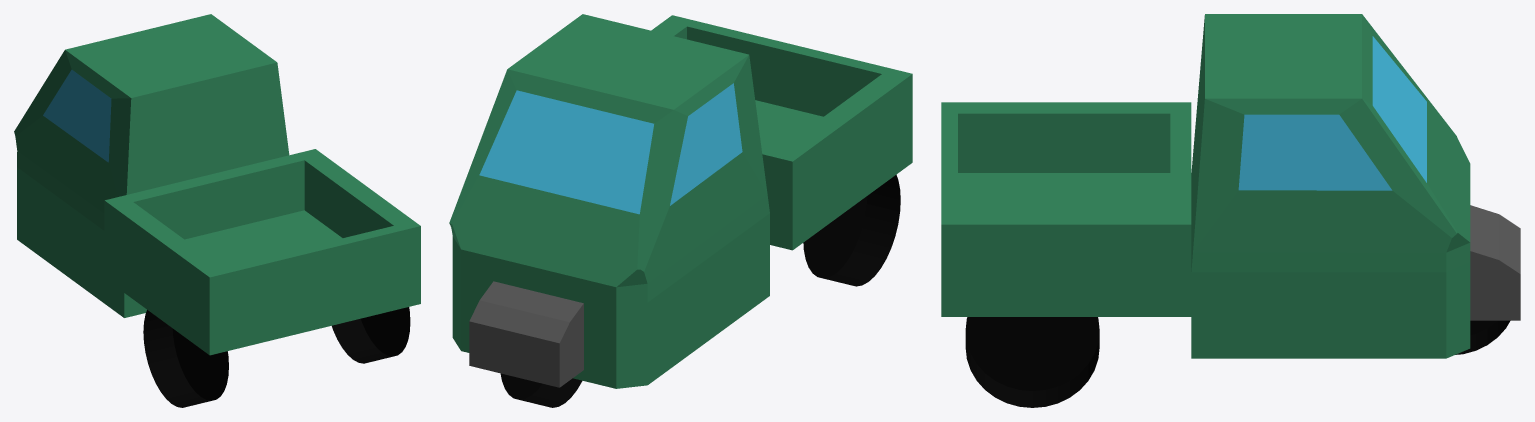
File: apino.glb
3 renders of one model, left to right at view 1: azimuth 30°, elevation 25°; view 2: azimuth 150°, elevation 25°; view 3: azimuth 270°, elevation 25°, orthographic. The views are drawn at different scales.
Parts seen in each view (by area): view 1: Cube.001, Cylinder.002, Cylinder.003; view 2: Cube.001, Cylinder.002, Cylinder.001; view 3: Cube.001, Cylinder.003, Cylinder.001.
Boxes of the visible parts, x1=… form: Cube.001: x1=14, y1=14, x2=420, y2=355; Cylinder.002: x1=143, y1=310, x2=228, y2=407; Cylinder.003: x1=332, y1=307, x2=410, y2=363; Cube.001: x1=449, y1=14, x2=912, y2=388; Cylinder.002: x1=803, y1=174, x2=900, y2=286; Cylinder.001: x1=500, y1=373, x2=582, y2=407; Cube.001: x1=941, y1=14, x2=1520, y2=358; Cylinder.003: x1=965, y1=317, x2=1099, y2=407; Cylinder.001: x1=1455, y1=320, x2=1510, y2=354.
Bounding box in the file's own units: 2.08 × 2.3 × 4.16.
